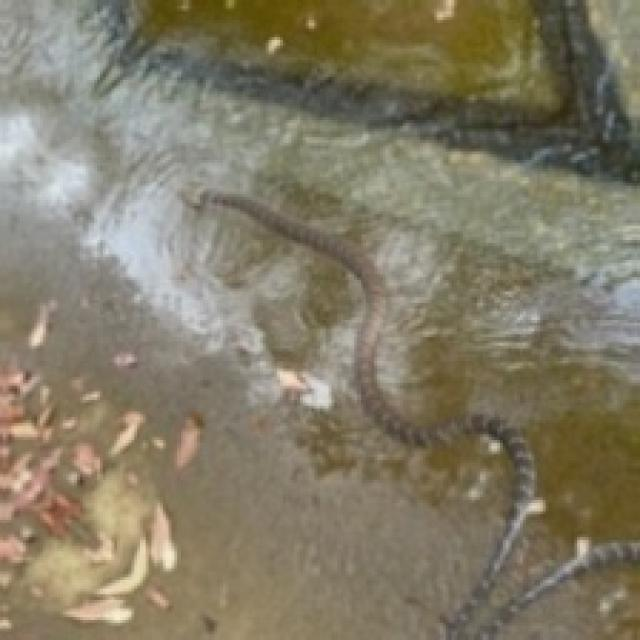king cobra: (180, 189, 540, 637), (180, 189, 534, 637)
